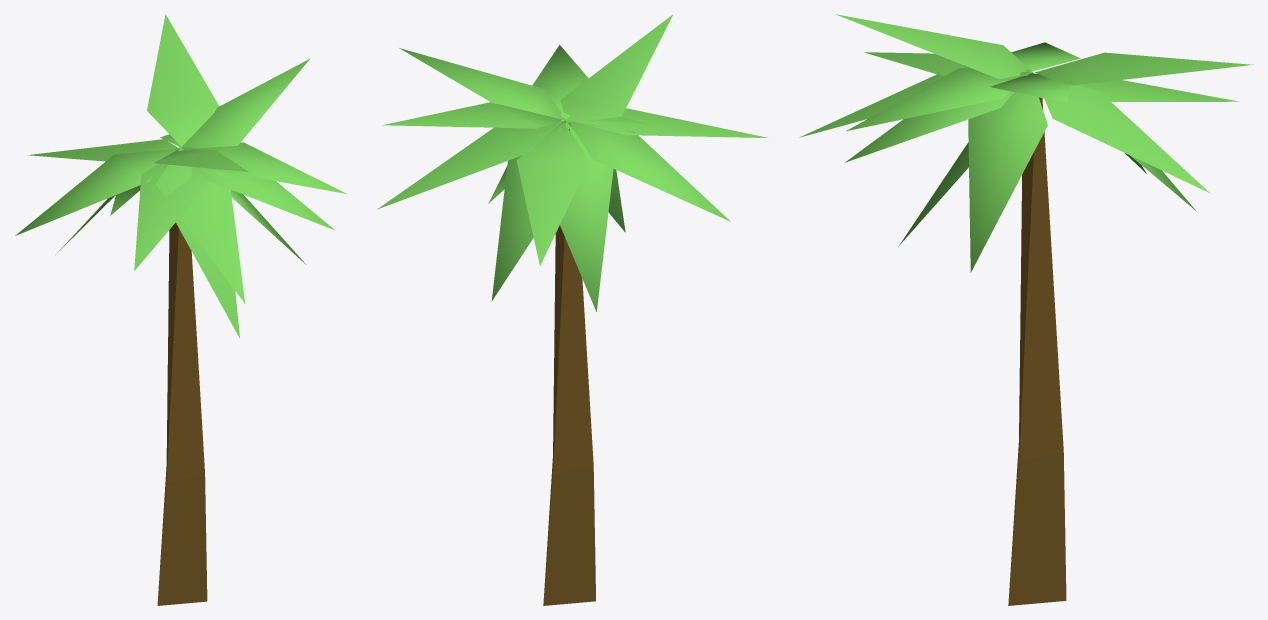
The model's file is palm tree straight LOD.fbx.
3 renders of one model, left to right at view 1: azimuth 30°, elevation 25°; view 2: azimuth 150°, elevation 25°; view 3: azimuth 270°, elevation 25°, orthographic. The views are drawn at different scales.
Parts seen in each view (by area): view 1: LODLeaves, LODTrunk; view 2: LODLeaves, LODTrunk; view 3: LODLeaves, LODTrunk.
Boxes of the visible parts, bbox=[...] form: LODLeaves: bbox=[15, 14, 346, 338]; LODTrunk: bbox=[157, 222, 207, 605]; LODLeaves: bbox=[377, 14, 767, 311]; LODTrunk: bbox=[543, 123, 595, 605]; LODLeaves: bbox=[799, 14, 1253, 272]; LODTrunk: bbox=[1008, 97, 1066, 605].
Bounding box in the file's own units: 270 × 419 × 300.
